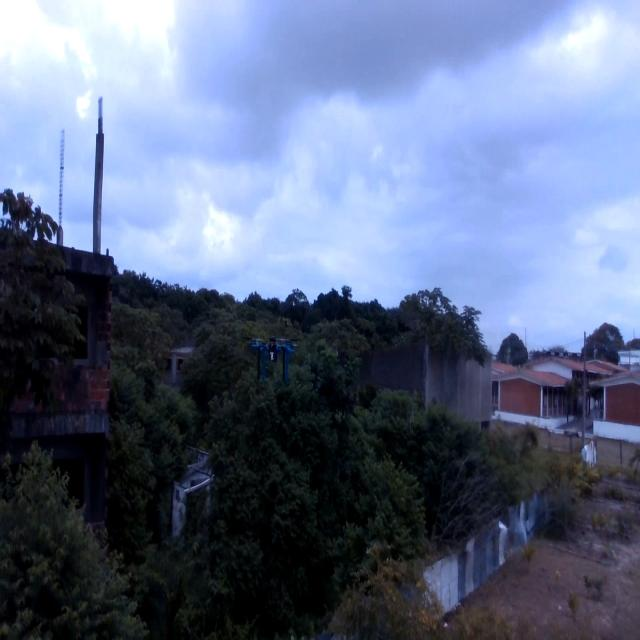-uav-: (243, 320, 306, 396)
